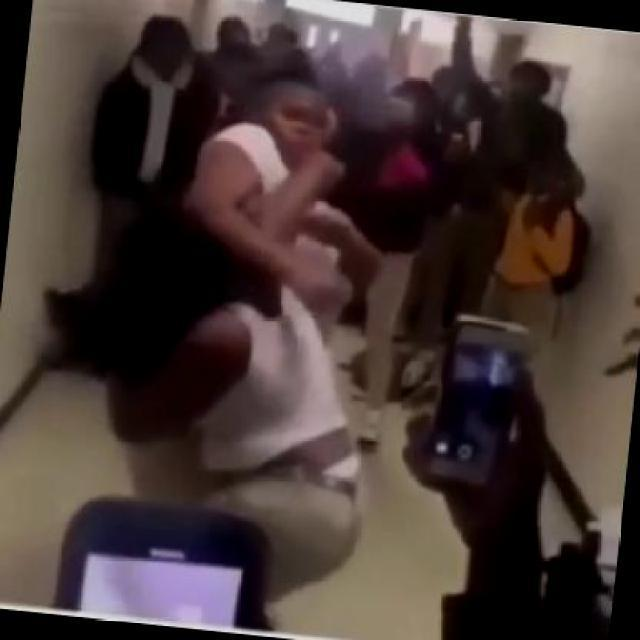fight: (22, 52, 410, 518)
